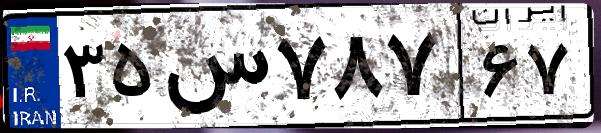3: (57, 26, 110, 100)
5: (110, 28, 158, 98)
6: (475, 38, 525, 113)
7: (270, 28, 330, 110), (385, 28, 445, 110), (525, 38, 570, 115)
8: (330, 28, 385, 110)
س: (158, 20, 270, 120)
